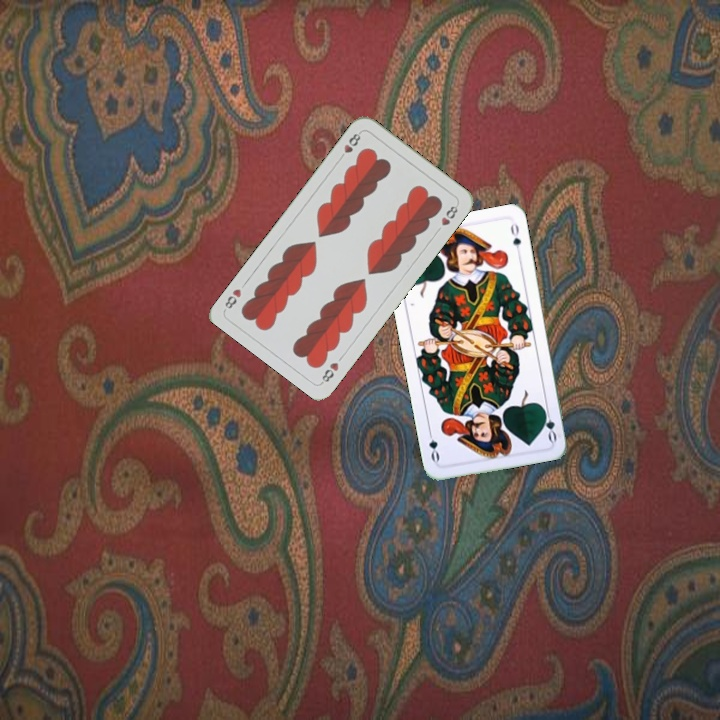GO: (539, 404, 559, 444)
H8: (335, 128, 364, 163), (318, 358, 341, 386)
